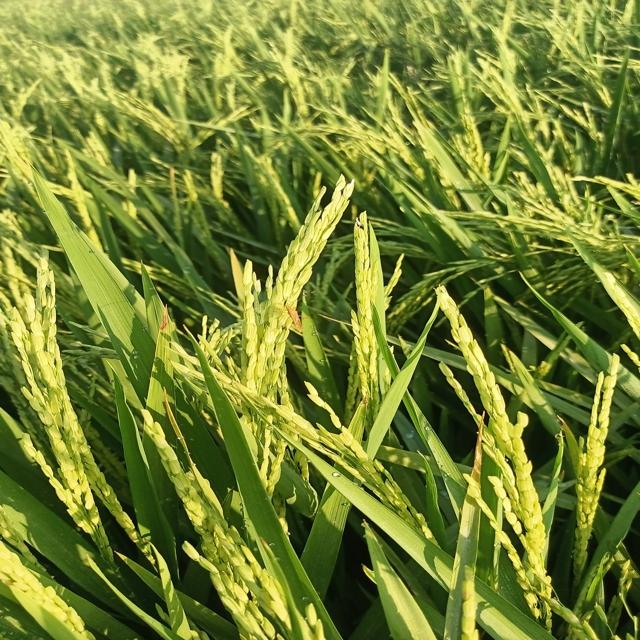green leaf hopper: (275, 296, 312, 334)
insects: (159, 314, 170, 332)
